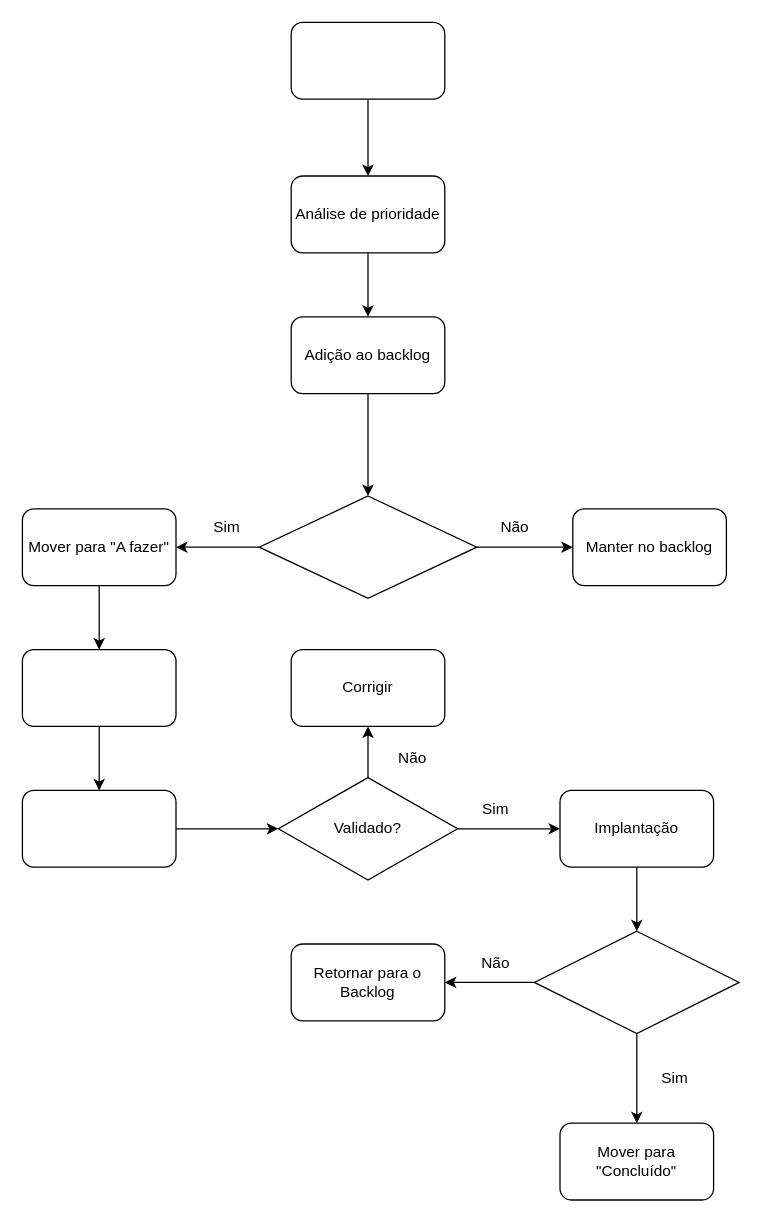
Image size: 762x1222. Some labels were removed from this diagram. Each missing label, with the centre of its shape:
Feedback esperado?: (x=636, y=982)
Implementar: (x=98, y=687)
Nova tarefa: (x=367, y=60)
Prioridade na sprint?: (x=367, y=546)
Testar: (x=98, y=828)
